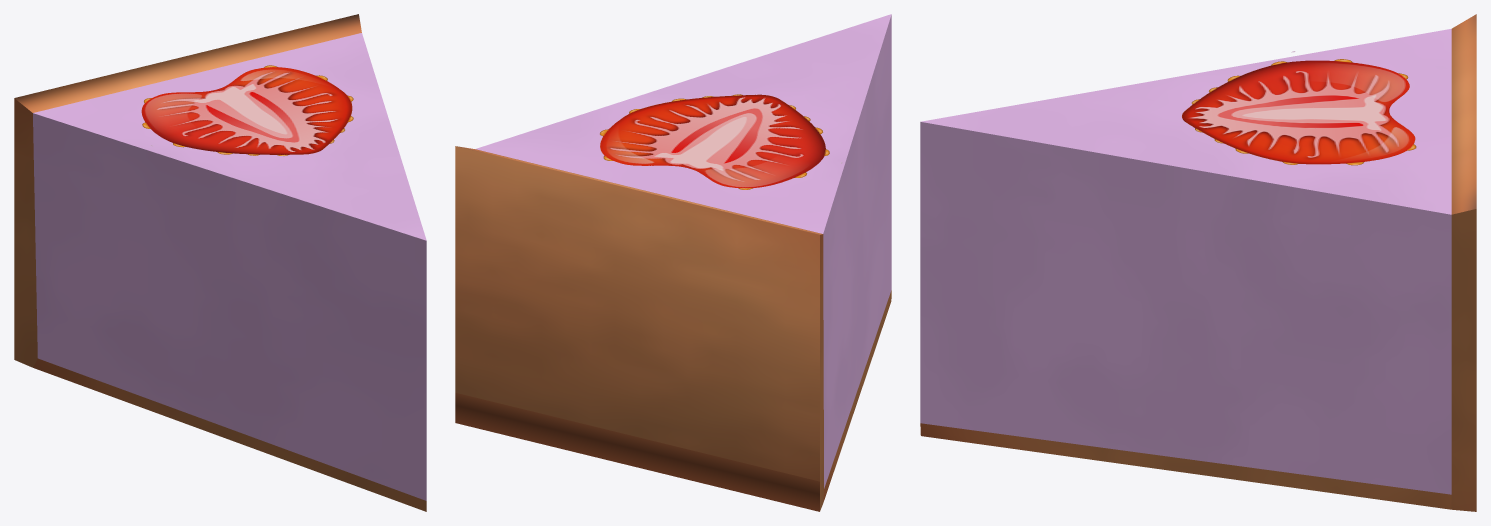
File: Cheesecake_Slice_A_2.FBX
The picture shows the model from 3 angles, left to right: view 1: azimuth 30°, elevation 25°; view 2: azimuth 150°, elevation 25°; view 3: azimuth 270°, elevation 25°; orthographic projection. The views are drawn at different scales.
Visible parts, largest first — view 1: Cheesecake_Slice; view 2: Cheesecake_Slice; view 3: Cheesecake_Slice.
Boxes of the visible parts, left/top/right/bottom form: Cheesecake_Slice: left=14, top=14, right=426, bottom=511; Cheesecake_Slice: left=455, top=14, right=891, bottom=511; Cheesecake_Slice: left=920, top=14, right=1476, bottom=511.
Size of the model in its own units: 32.61 by 25.35 by 39.37.
